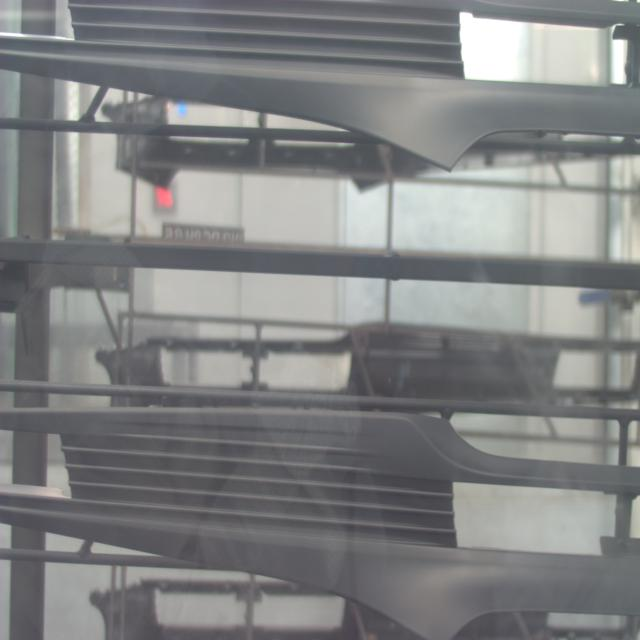Primered: (4, 402, 640, 640), (0, 4, 640, 170)
